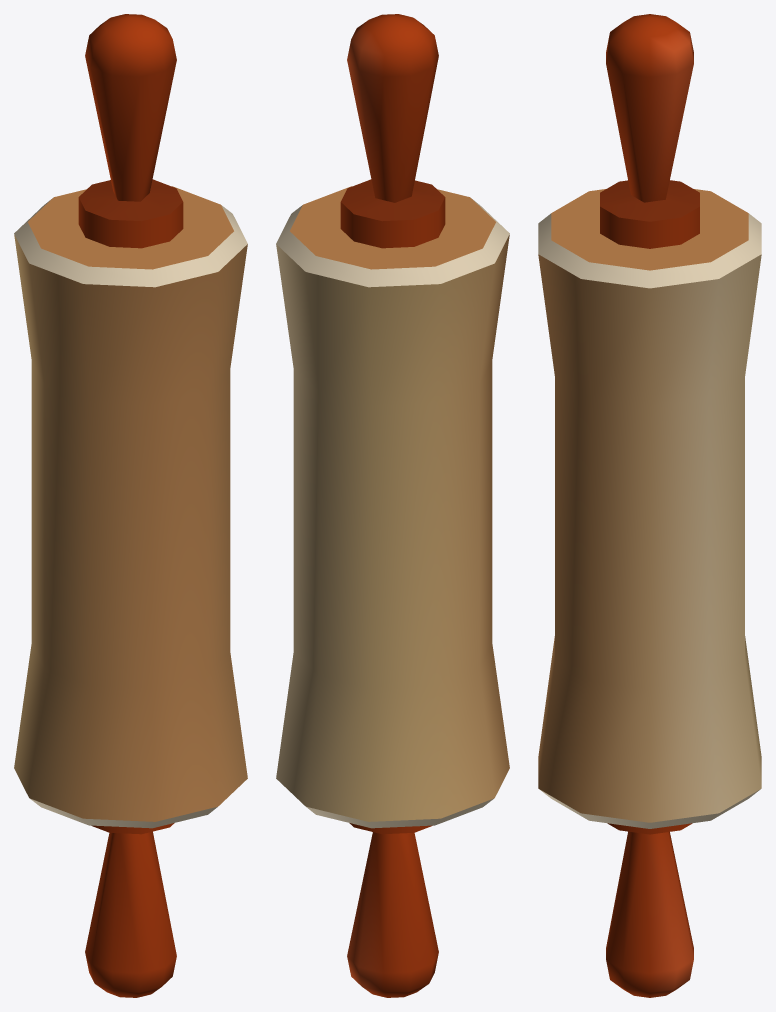
The model's file is Rollingpin.fbx.
3 renders of one model, left to right at view 1: azimuth 30°, elevation 25°; view 2: azimuth 150°, elevation 25°; view 3: azimuth 270°, elevation 25°, orthographic.
Parts seen in each view (by area): view 1: Rollingpin; view 2: Rollingpin; view 3: Rollingpin.
Part boxes in pixels (x1,y1,x2,y2): Rollingpin: (14, 14, 247, 997); Rollingpin: (276, 14, 509, 997); Rollingpin: (538, 14, 761, 997).
Bounding box in the file's own units: 15.59 × 71.49 × 14.83.
